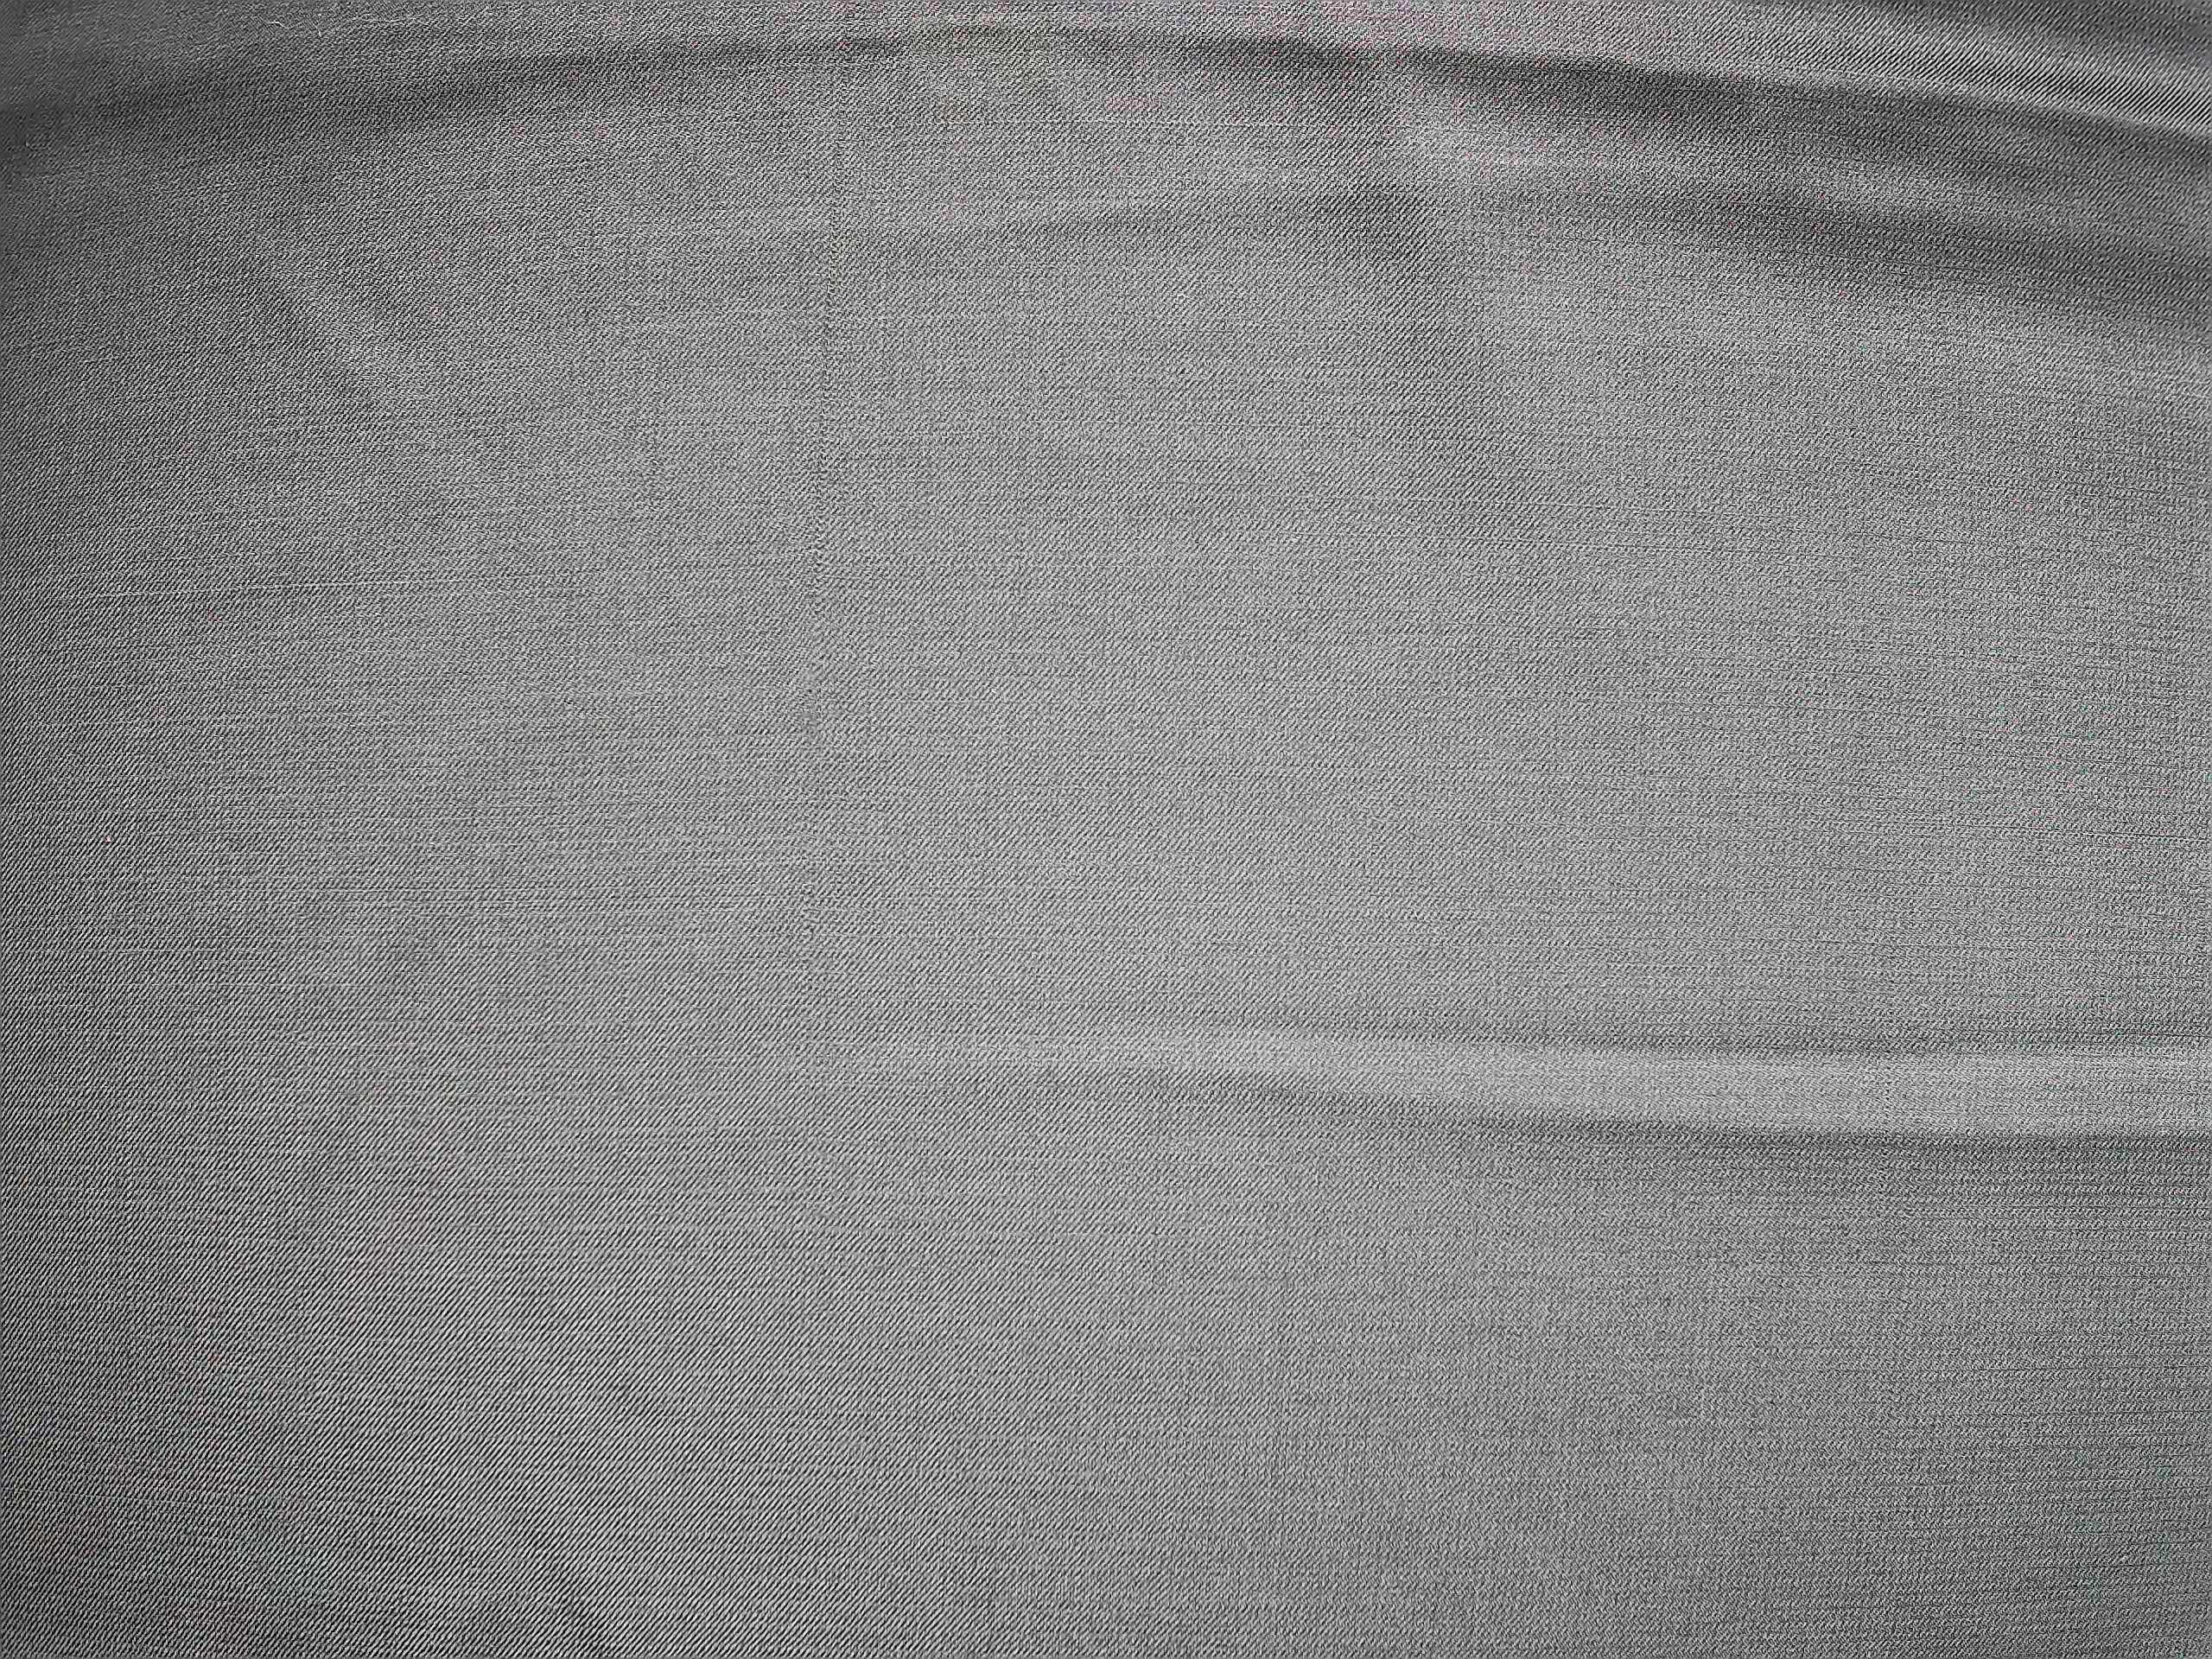hanging-warp: (796, 3, 864, 953)
